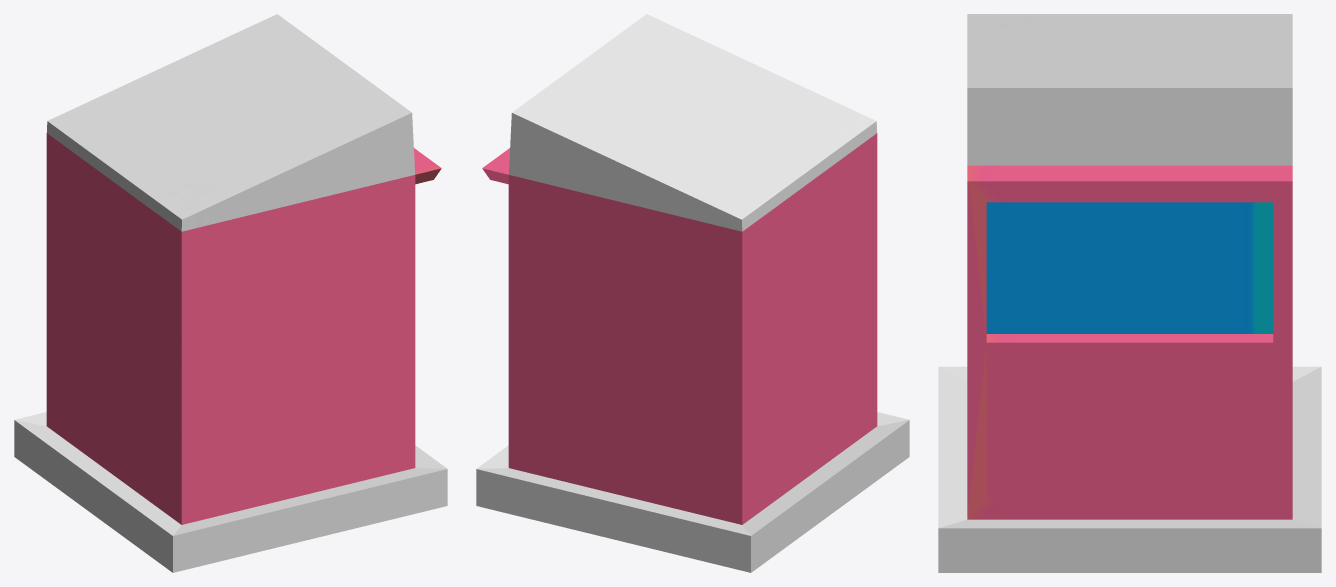
File: muff_world_ap_0_lev1.glb
3 renders of one model, left to right at view 1: azimuth 30°, elevation 25°; view 2: azimuth 150°, elevation 25°; view 3: azimuth 270°, elevation 25°, orthographic. The views are drawn at different scales.
Visible parts, largest first — view 1: muff_world_ap_0_lev1; view 2: muff_world_ap_0_lev1; view 3: muff_world_ap_0_lev1.
Boxes of the visible parts, left/top/right/bottom form: muff_world_ap_0_lev1: left=14, top=14, right=447, bottom=572; muff_world_ap_0_lev1: left=476, top=14, right=909, bottom=572; muff_world_ap_0_lev1: left=938, top=14, right=1321, bottom=572.
Bounding box in the file's own units: 0.8467 × 1.12 × 0.8286.
1 material, 1 textured.
